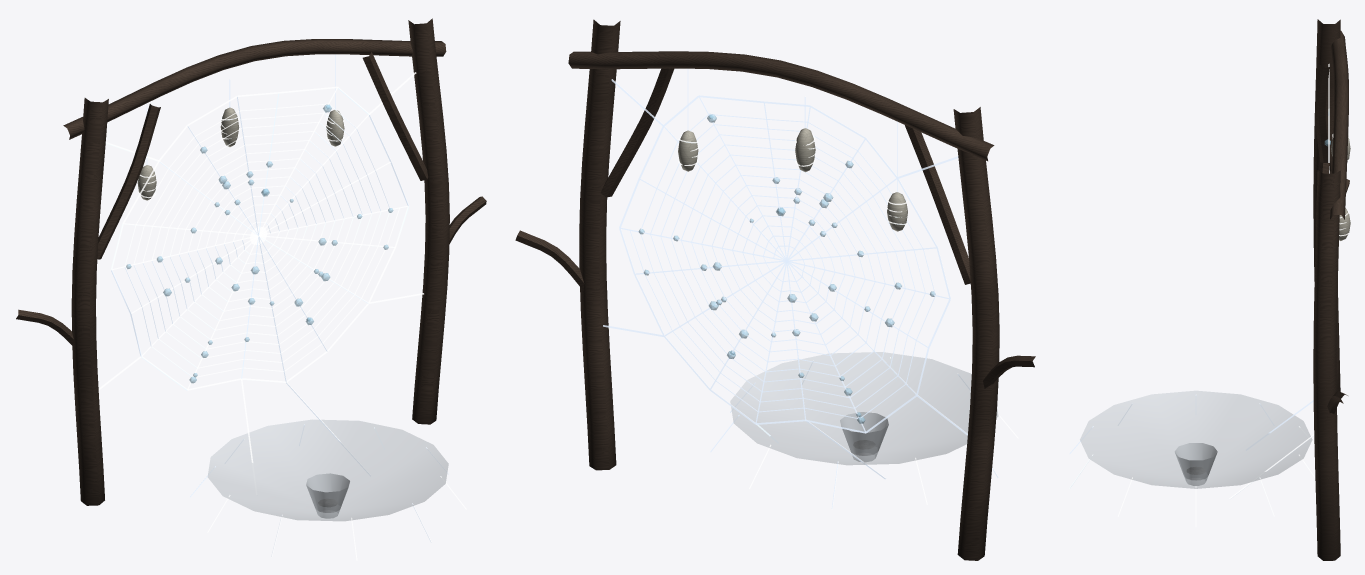
File: gang_tisseuses_2.glb
3 views of the same model, side by side, from view 1: azimuth 30°, elevation 25°; view 2: azimuth 150°, elevation 25°; view 3: azimuth 270°, elevation 25° (orthographic). The views are drawn at different scales.
Parts seen in each view (by area): view 1: habitat_tisseuses, group_7; view 2: habitat_tisseuses, group_7; view 3: group_7, habitat_tisseuses.
Boxes of the visible parts, x1=… form: habitat_tisseuses: x1=16, y1=18, x2=486, y2=560; group_7: x1=207, y1=419, x2=448, y2=521; habitat_tisseuses: x1=515, y1=19, x2=1035, y2=560; group_7: x1=730, y1=352, x2=998, y2=465; group_7: x1=1080, y1=390, x2=1312, y2=488; habitat_tisseuses: x1=1069, y1=19, x2=1350, y2=560.
Bounding box in the file's own units: 62.49 × 52.18 × 33.85.
7 materials, 3 textured.
